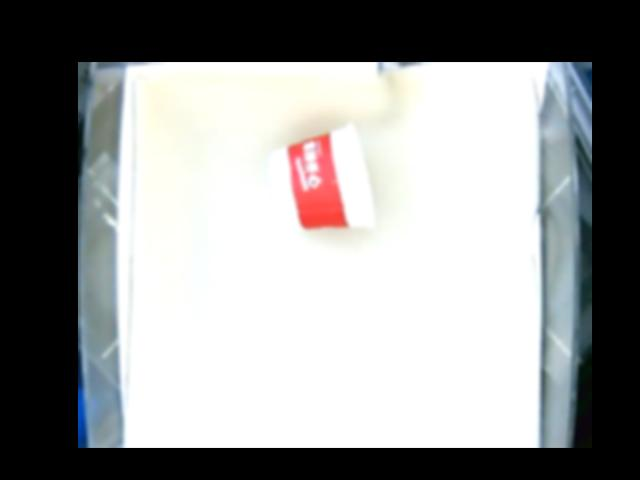Cup: (269, 121, 375, 229)
